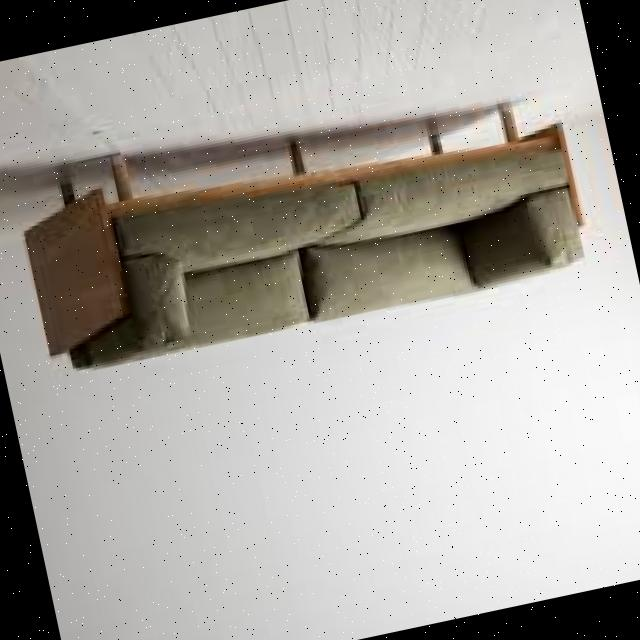Sofa: (2, 47, 624, 430)
